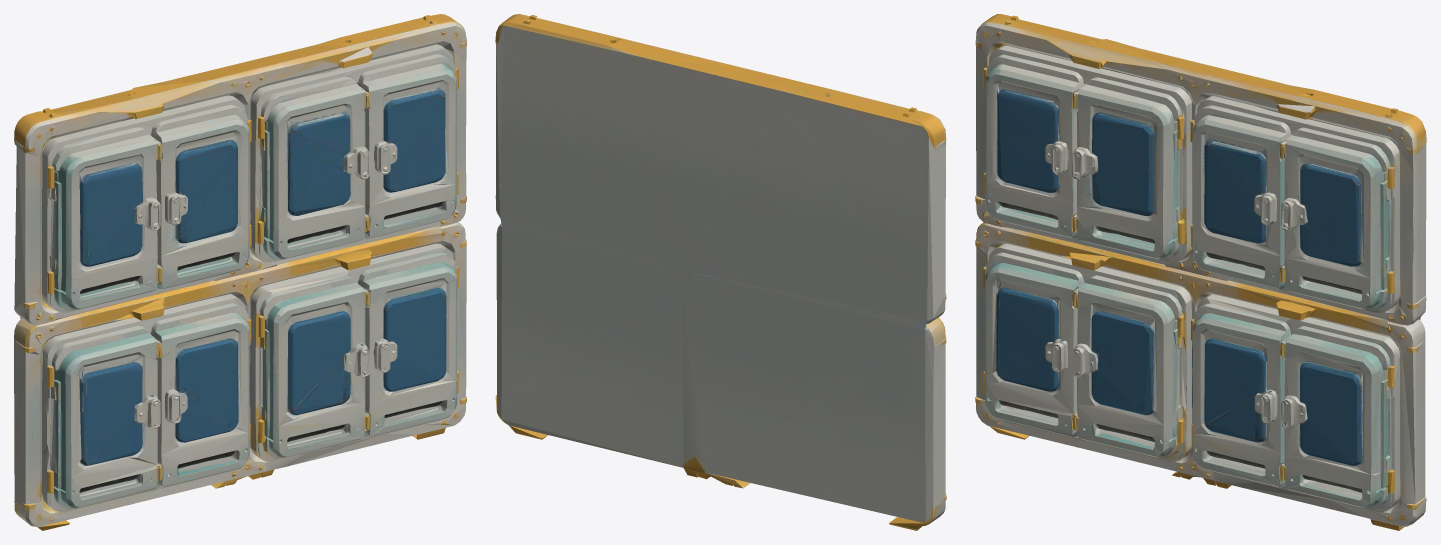
Rendered from storage-lockers.gltf.
3 renders of one model, left to right at view 1: azimuth 30°, elevation 25°; view 2: azimuth 150°, elevation 25°; view 3: azimuth 330°, elevation 25°, orthographic.
Bounding box in the file's own units: 1.9 × 1.71 × 0.2852.
Materials: 1 (1 with a texture image).
